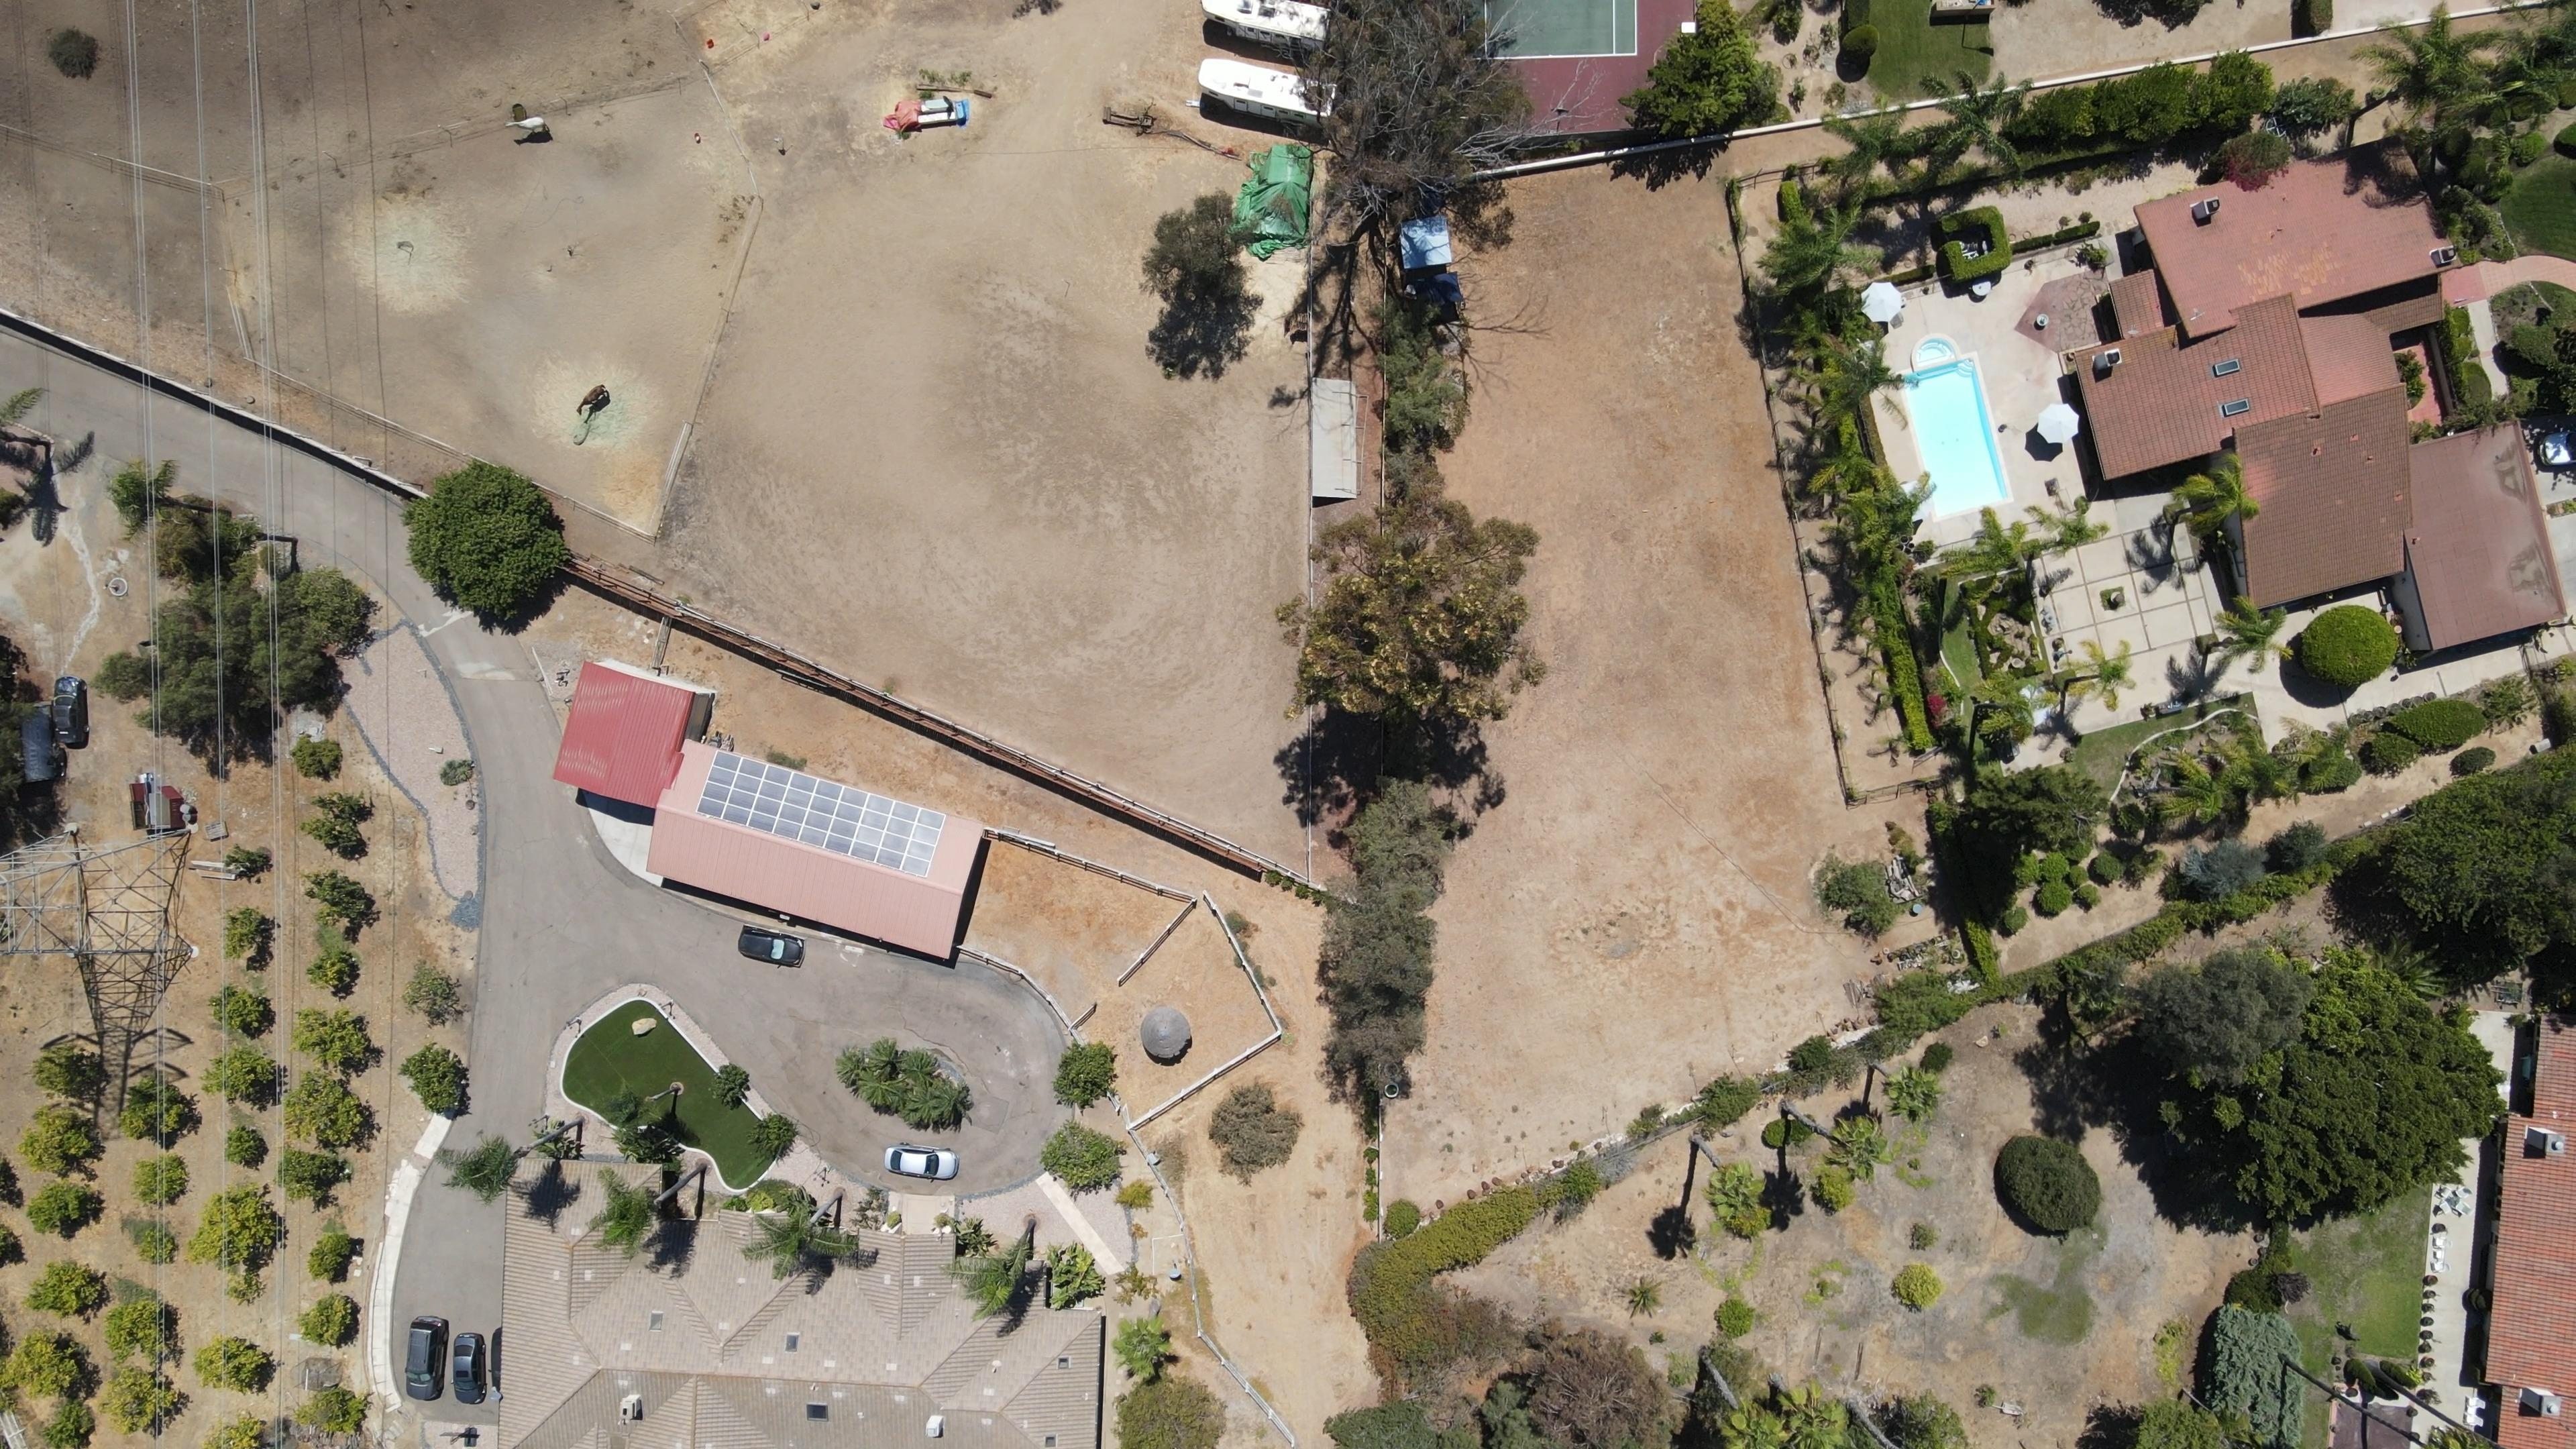panel: (696, 750, 947, 877)
